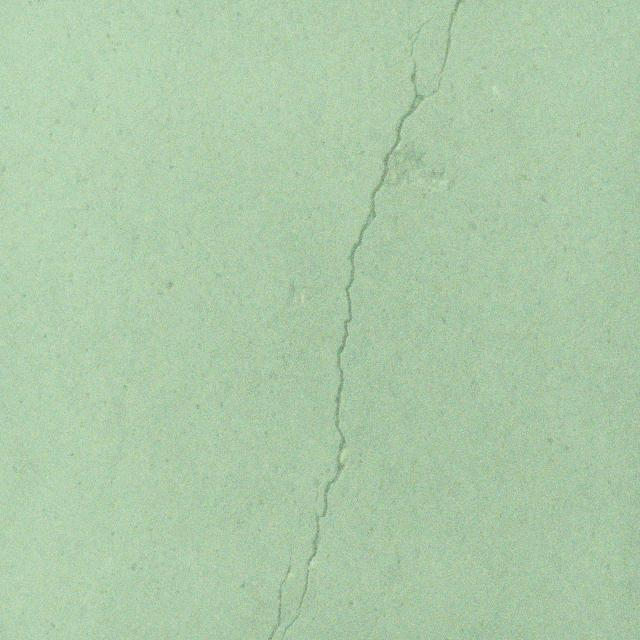crack: (281, 0, 466, 640), (266, 523, 312, 640)
